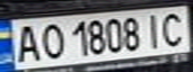0: (103, 16, 127, 54)
1: (66, 18, 90, 56)
8: (121, 14, 145, 52), (84, 17, 106, 56)
A: (9, 21, 42, 63)
C: (157, 9, 190, 47)
I: (139, 10, 169, 49)
O: (36, 20, 66, 61)
